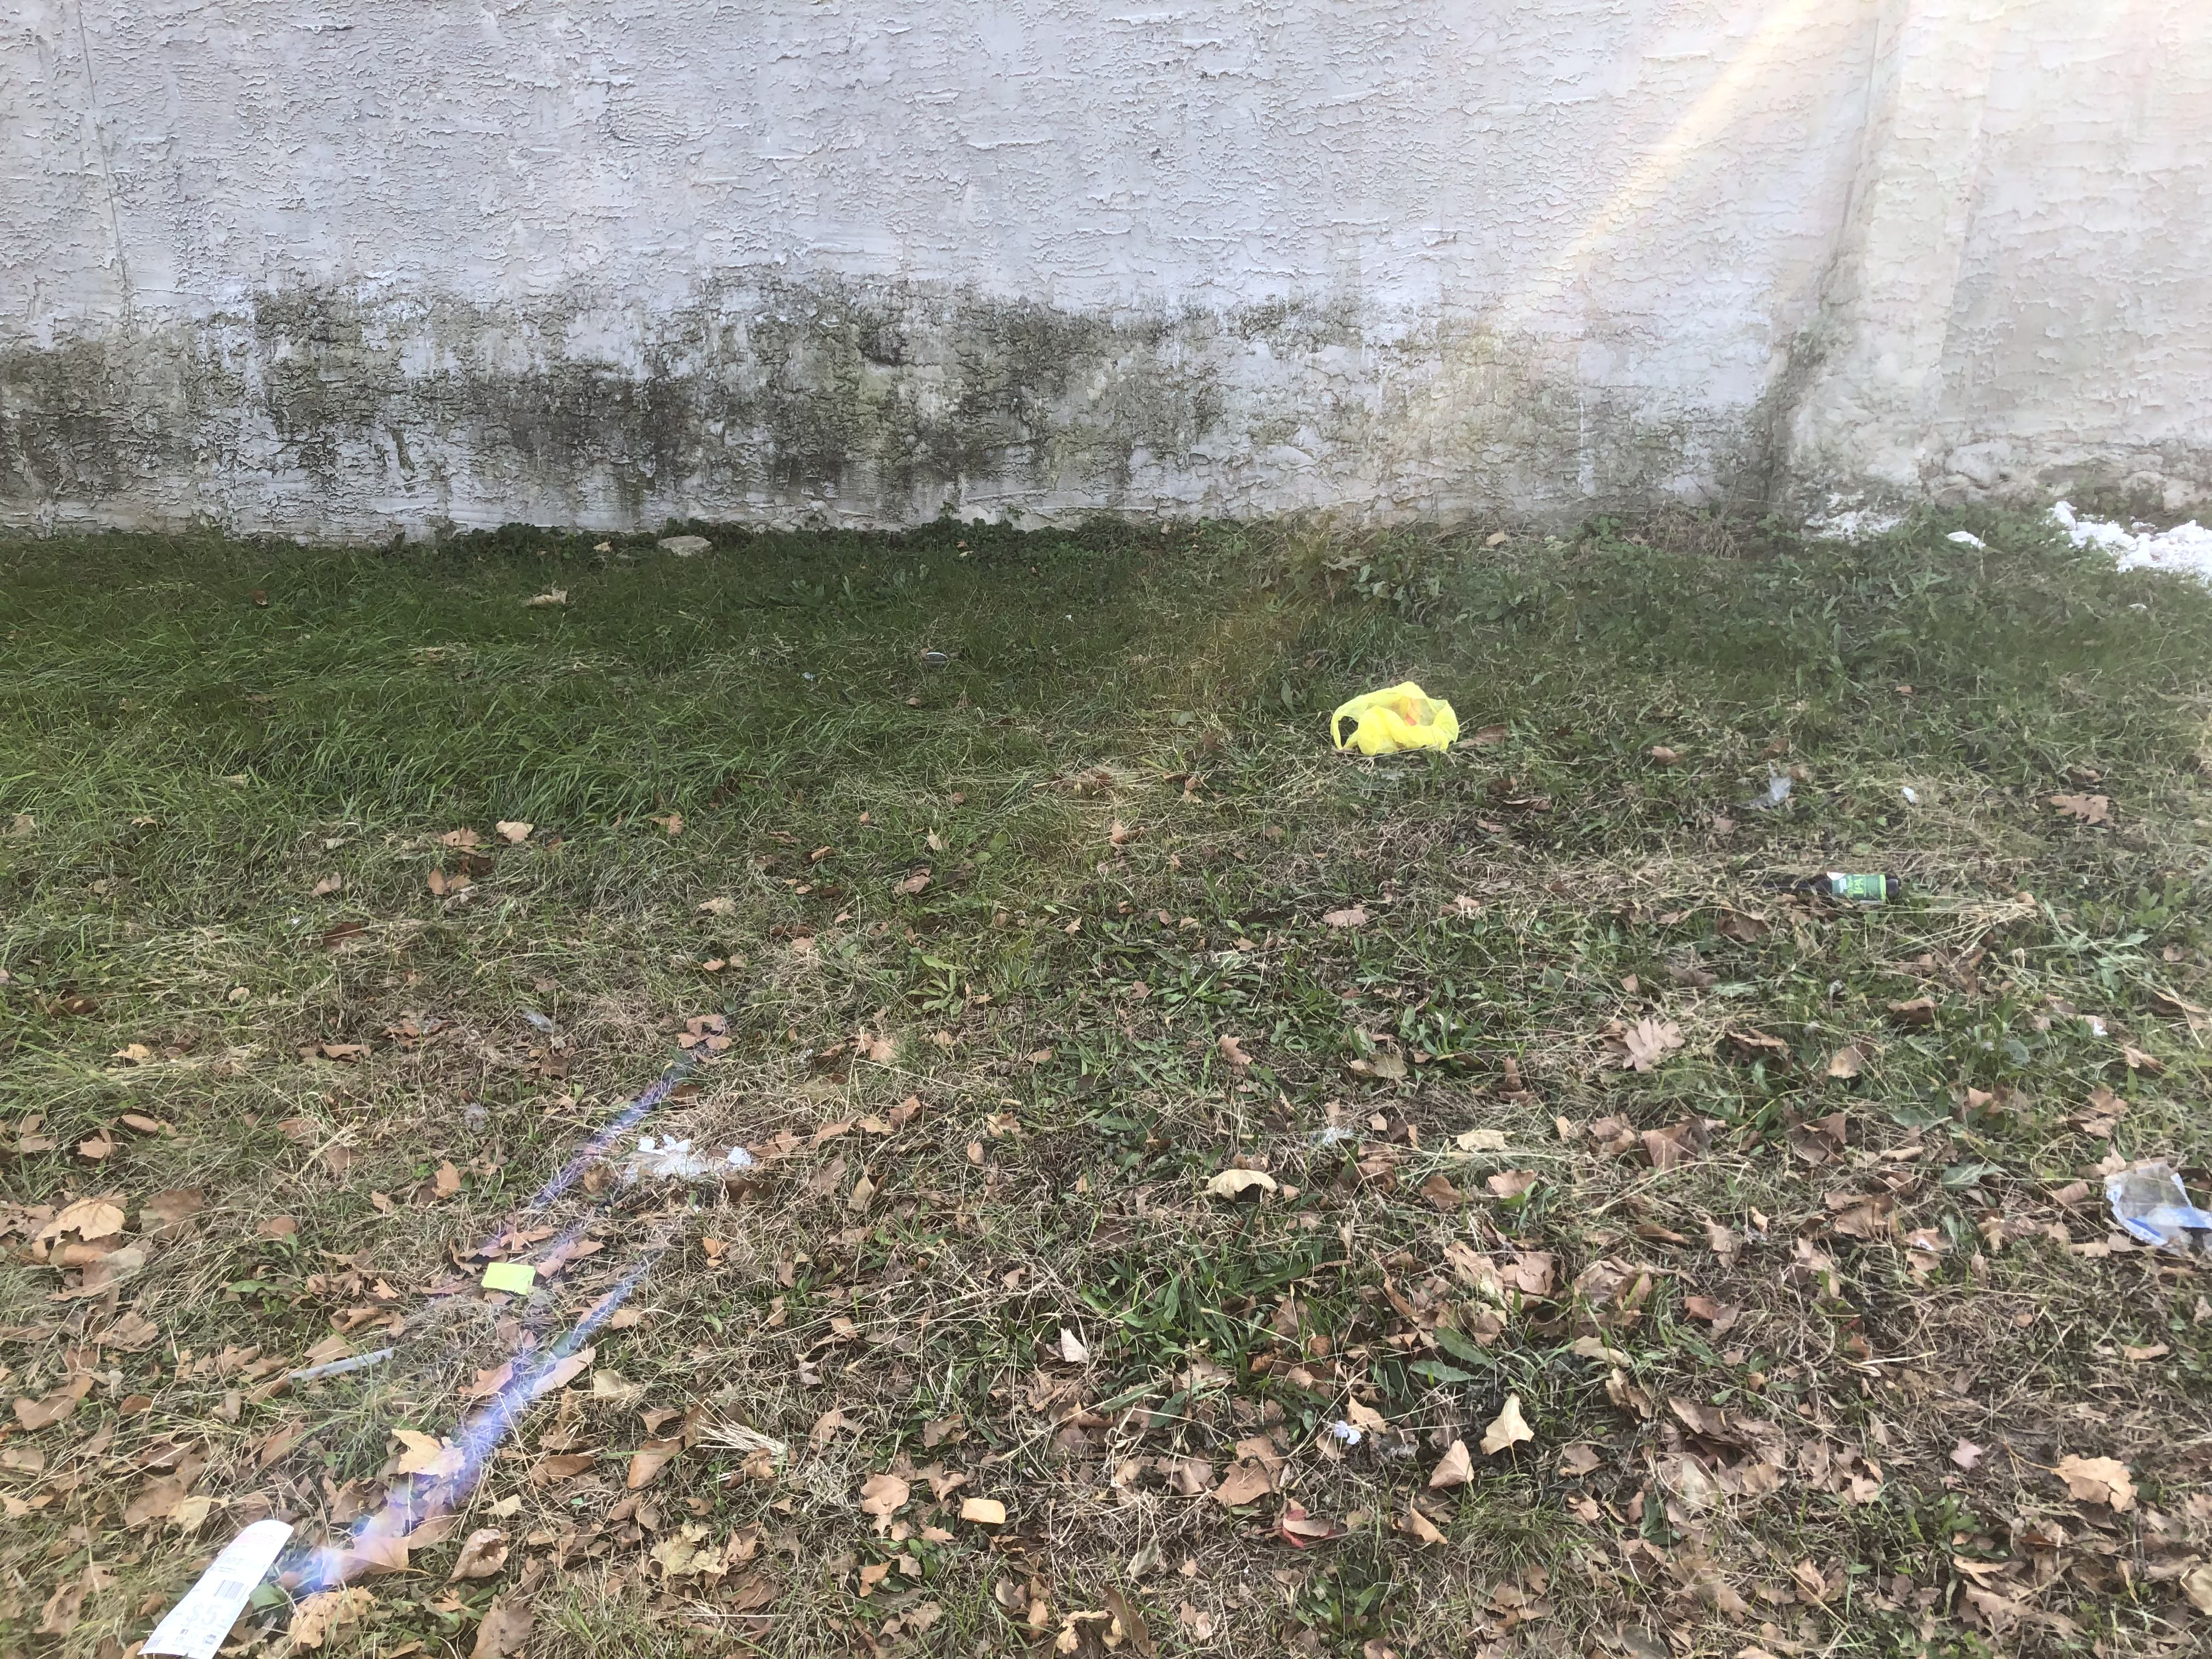good_lawn: (49, 605, 2067, 1650)
trash: (132, 1462, 364, 1659), (1312, 655, 1510, 796), (439, 1213, 570, 1337)
